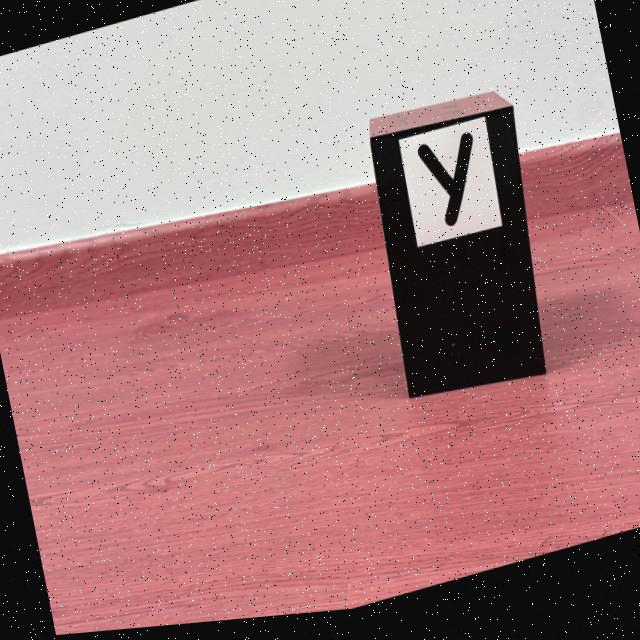Y: (418, 141, 473, 235)
